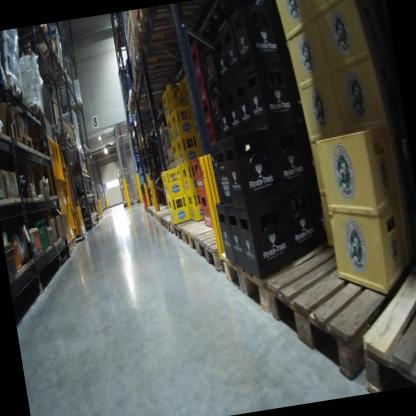pallet: (259, 236, 416, 396), (219, 224, 345, 320), (346, 255, 416, 389), (130, 20, 220, 66), (132, 0, 225, 40), (128, 46, 197, 80), (196, 226, 236, 281), (131, 65, 200, 96), (180, 219, 221, 260), (125, 79, 173, 103), (28, 40, 61, 70), (15, 24, 51, 49), (41, 68, 74, 94), (2, 69, 25, 103), (18, 96, 48, 122), (171, 219, 198, 244), (36, 59, 64, 78), (16, 132, 36, 153), (52, 125, 74, 144), (67, 164, 91, 180), (0, 48, 9, 88), (157, 211, 174, 231), (164, 215, 179, 235), (59, 139, 79, 150), (94, 202, 100, 209), (97, 213, 103, 219), (96, 210, 102, 215), (96, 207, 101, 213), (94, 199, 100, 204)
